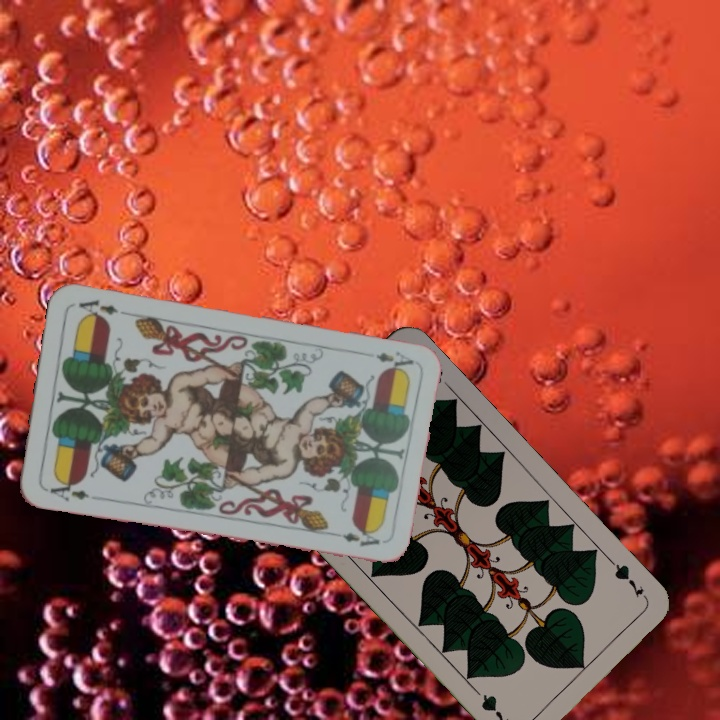EA: (46, 475, 92, 505), (372, 347, 416, 369)
G7: (606, 556, 646, 600)
